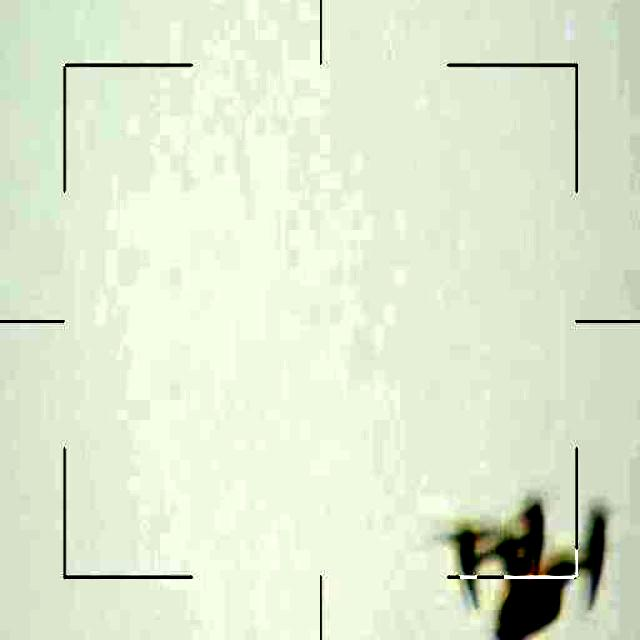bird: (442, 490, 611, 640)
